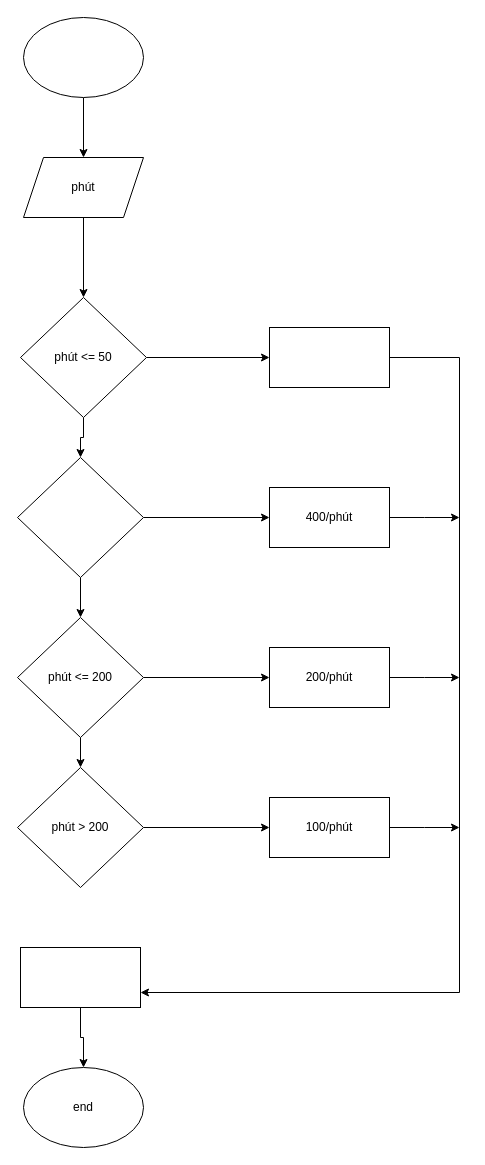
Some shapes in this 485 by 1165 pixel diagram are drawn without their labels. The shapes that lost their labels are listed below. From the top down, each one's box as (x1, y1, x2, y2) in pixels, then its label:
(22, 16, 144, 98): start
(268, 326, 390, 388): 600/phút
(16, 456, 144, 578): phút <= 150
(20, 946, 140, 1008): thuế + cước
